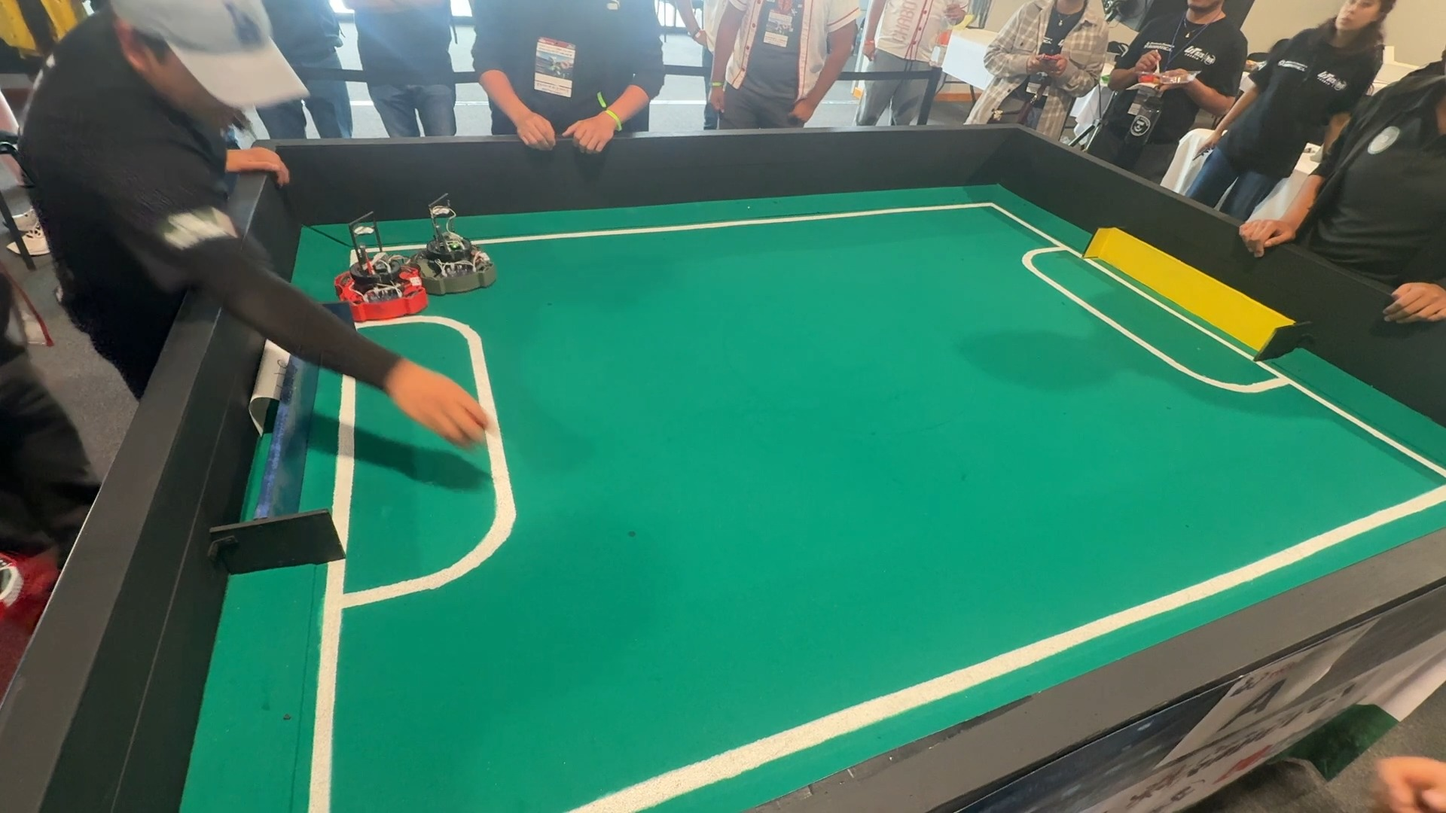Robot: (416, 199, 504, 301), (329, 222, 424, 315)
